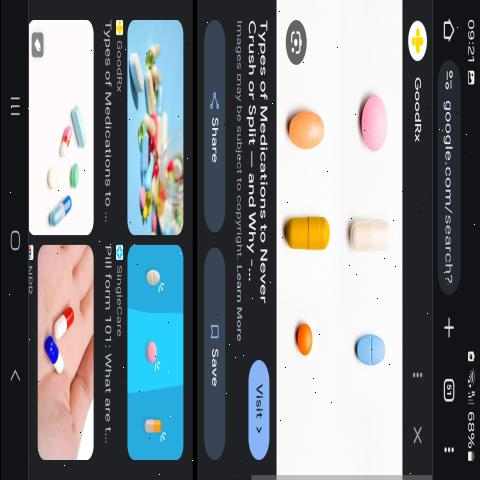Pill: (342, 198, 396, 282), (279, 89, 331, 171), (281, 196, 337, 272), (345, 313, 395, 396), (351, 80, 393, 163)
